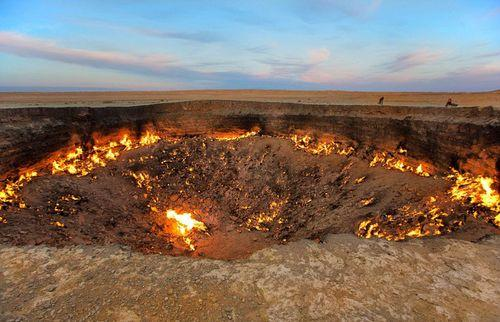fire: (50, 133, 162, 178), (429, 159, 490, 217), (293, 129, 346, 158), (211, 122, 259, 146), (167, 207, 196, 228)
